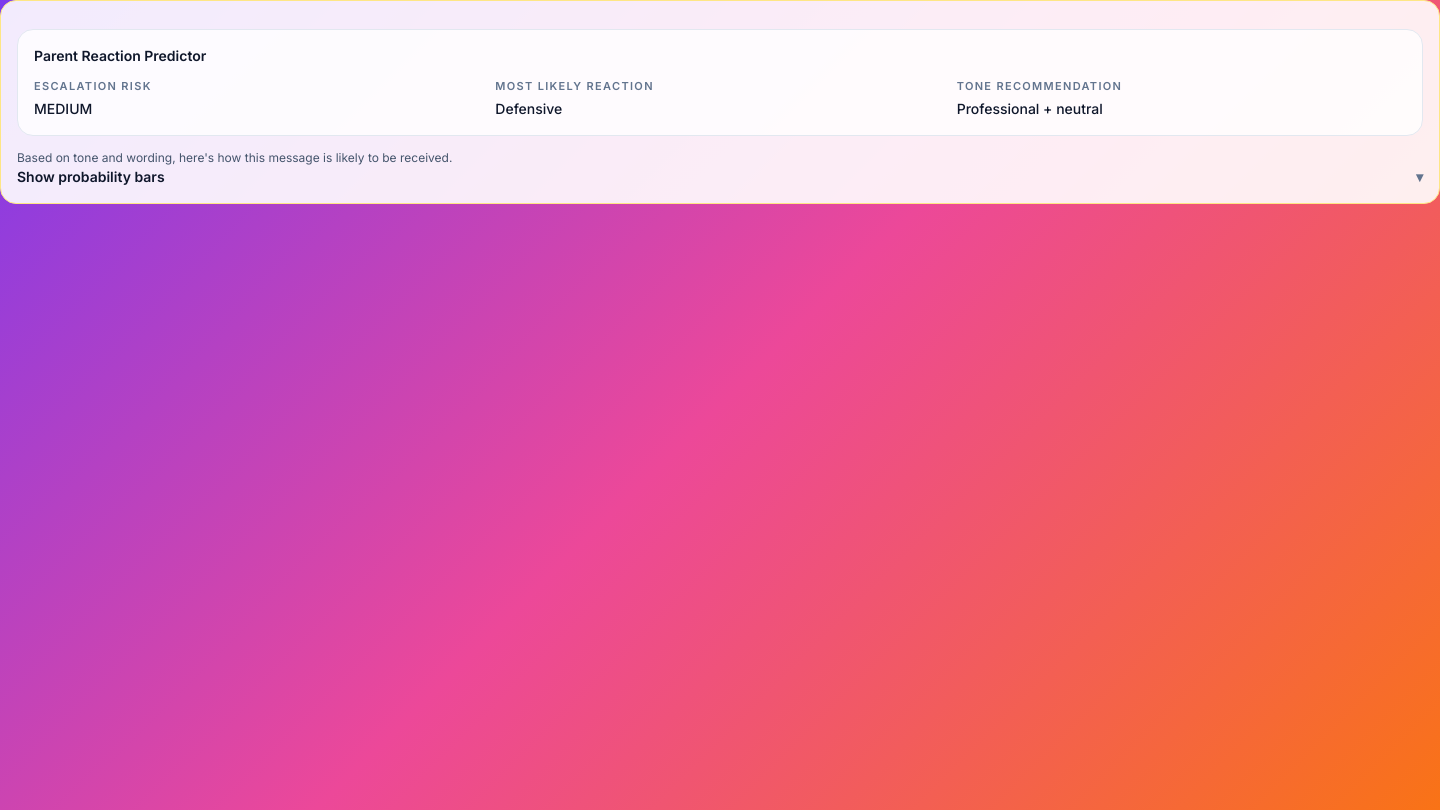
Test: ReactionForecast › renders a collapsed expandable predictor for medium risk with the full five-state model once expanded
Expected: the text "Parent Reaction Predictor" is shown, [34, 47, 206, 64]
Expected: the text "MEDIUM" is shown, [34, 100, 92, 116]
Click the button "Show probability bars ▾" at (91, 176), box [17, 167, 1423, 187]
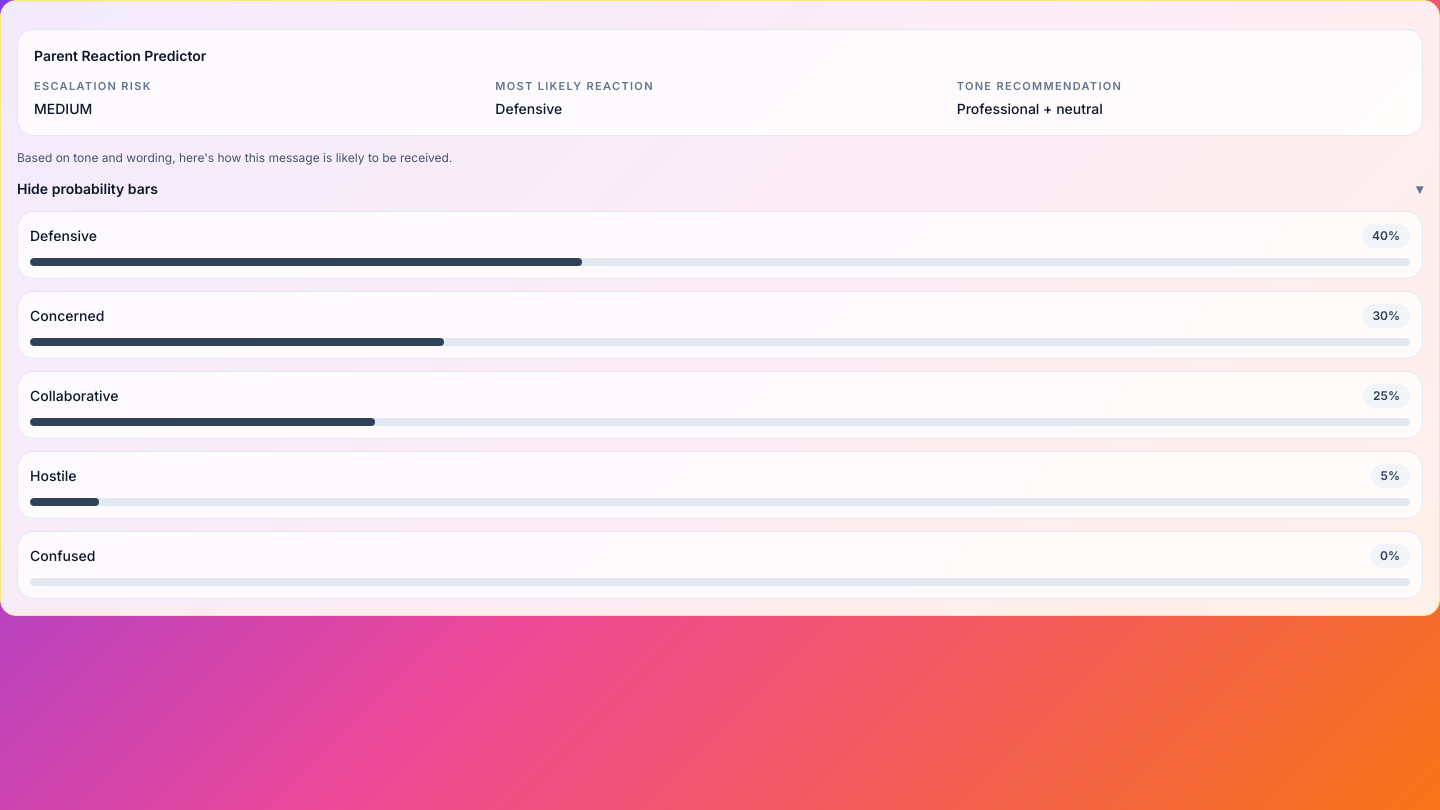
Expected: the text "40%" is shown, [1362, 224, 1410, 248]
Expected: the text "Hostile" is shown, [30, 466, 76, 486]
Expected: the text "Confused" is shown, [30, 546, 95, 566]
